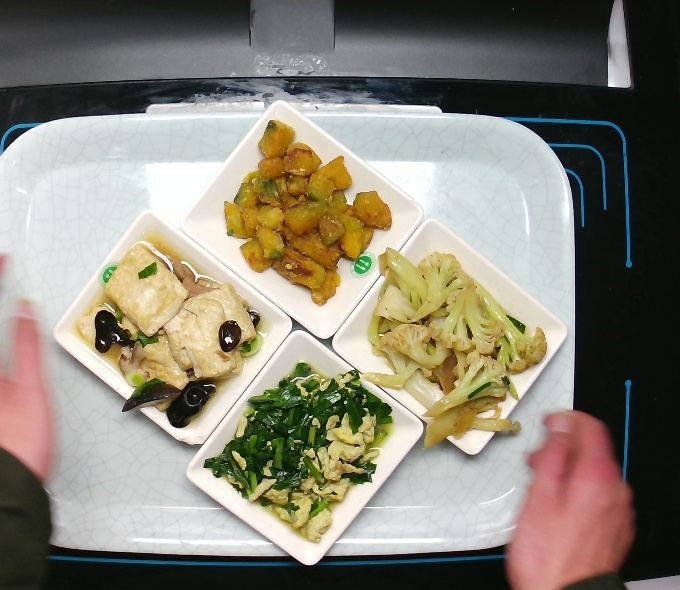wcq-DanHuangNanGua: (225, 118, 395, 304)
wcq-JiaChangDouFu: (76, 242, 265, 430)
wcq-JiuCaiJiDan: (207, 355, 399, 536)
wcq-QiuCai: (373, 235, 555, 443)
